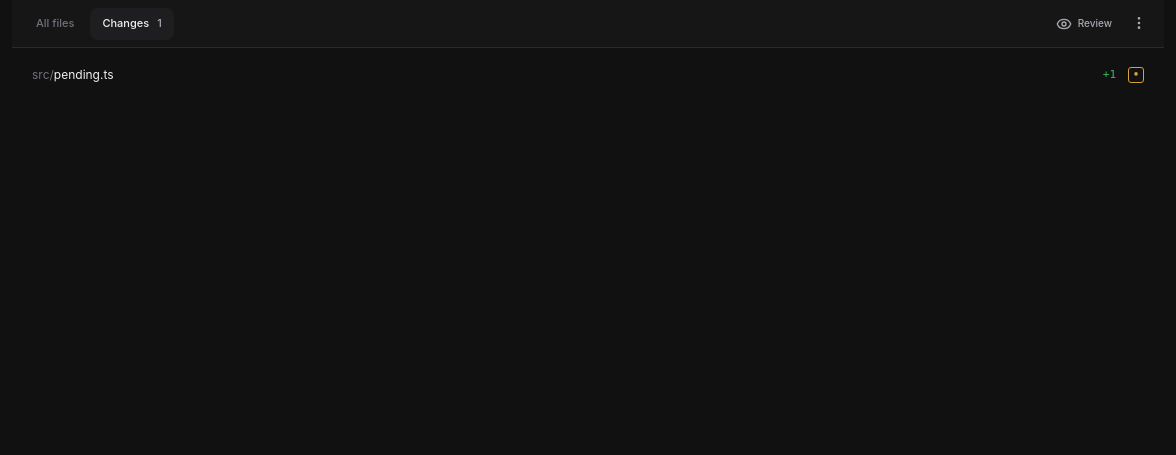
Test: DiffPanel file list + diff view › searches target branches case-insensitively and reports an empty result
Expected: the button with test id "diff-file-src/pending.ts" is shown, [12,56,1164,94]
Click the button with test id "git-more".
click(1139, 23)  # box [1126,10,1152,36]
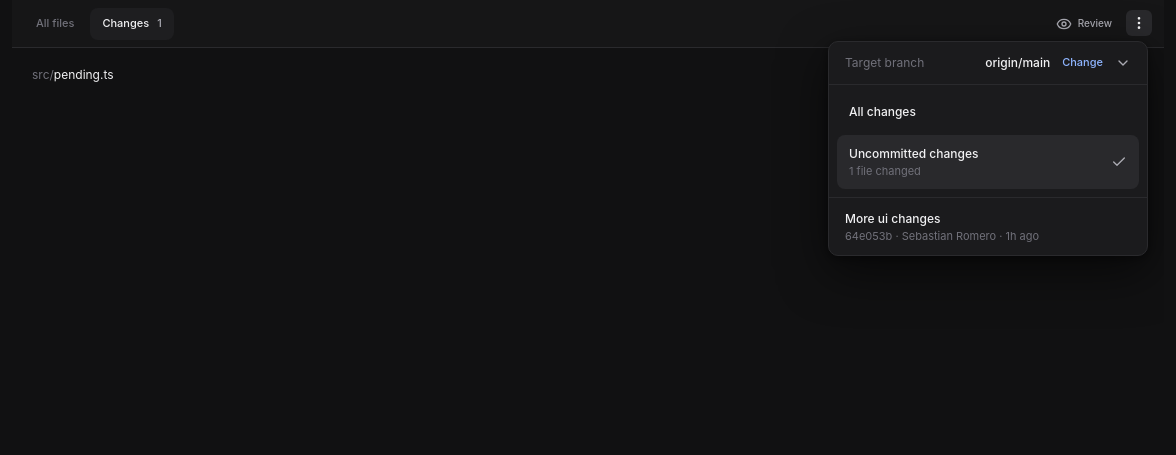
Click the menu item with test id "git-target-branch".
click(988, 63)  # box [829,42,1147,84]
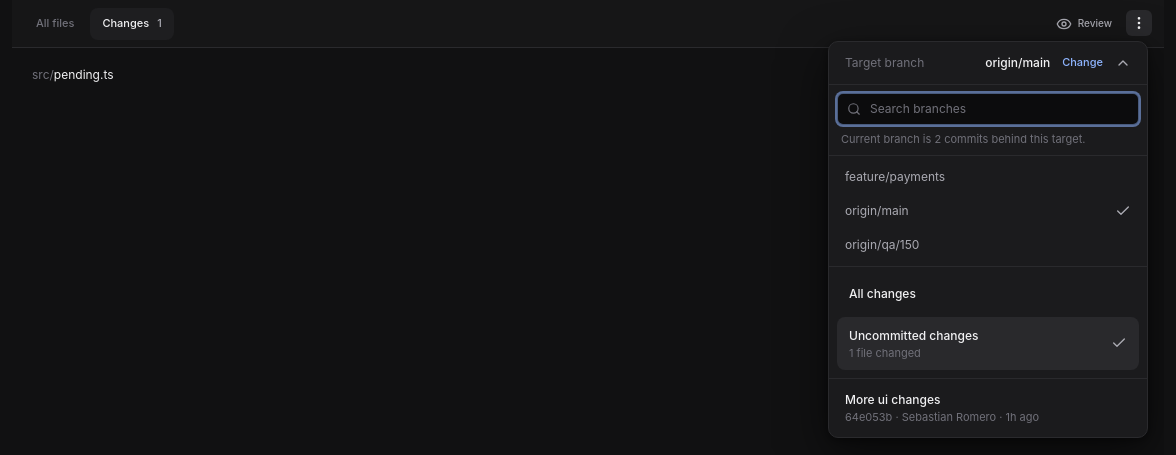
Expected: the text with test id "git-target-status" reads "Current branch is 2 commits behind this target.", [841,132,1086,146]
Type "QA/150" into the search field labelled "Search branches".
click(988, 109); type("QA/150")  # box [837,93,1139,125]
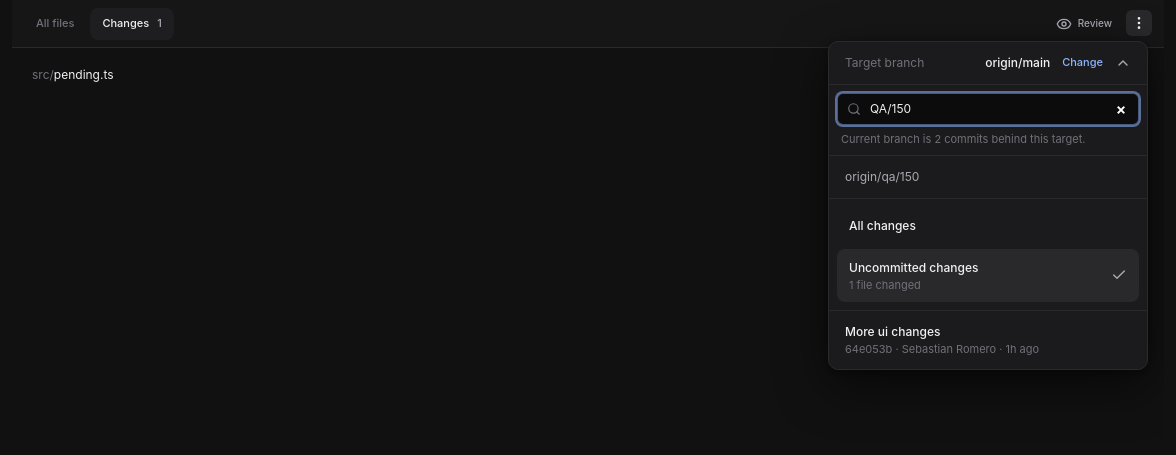
Expected: the menu item with test id "git-target-option-origin/qa/150" is shown, [829,160,1147,194]
Expected: the menu item with test id "git-target-option-origin/main" is gone
Replace the text in the search field named "Search branches" with "does-not-exist" at (988, 109), box [837,93,1139,125]
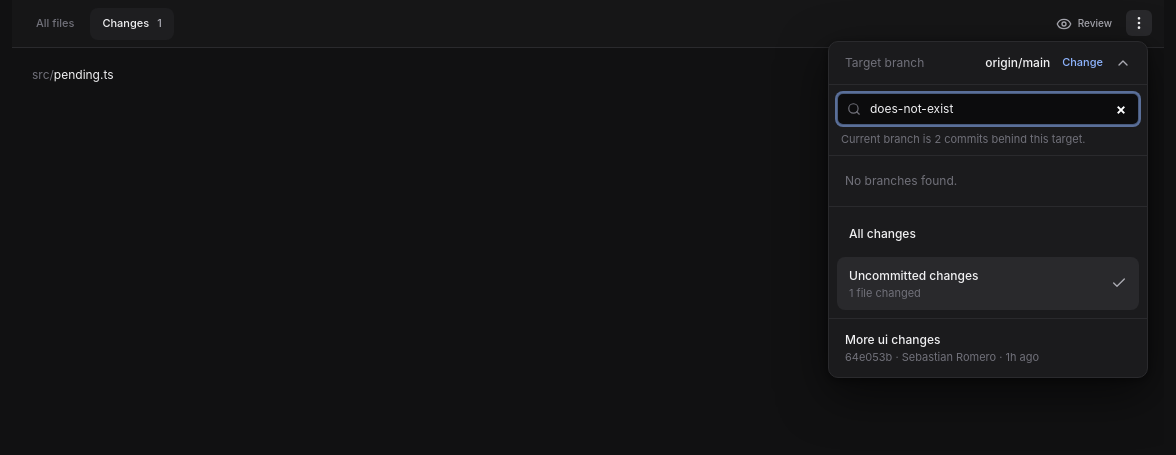
Expected: the text with test id "git-target-no-results" reads "No branches found.", [845,172,957,188]
